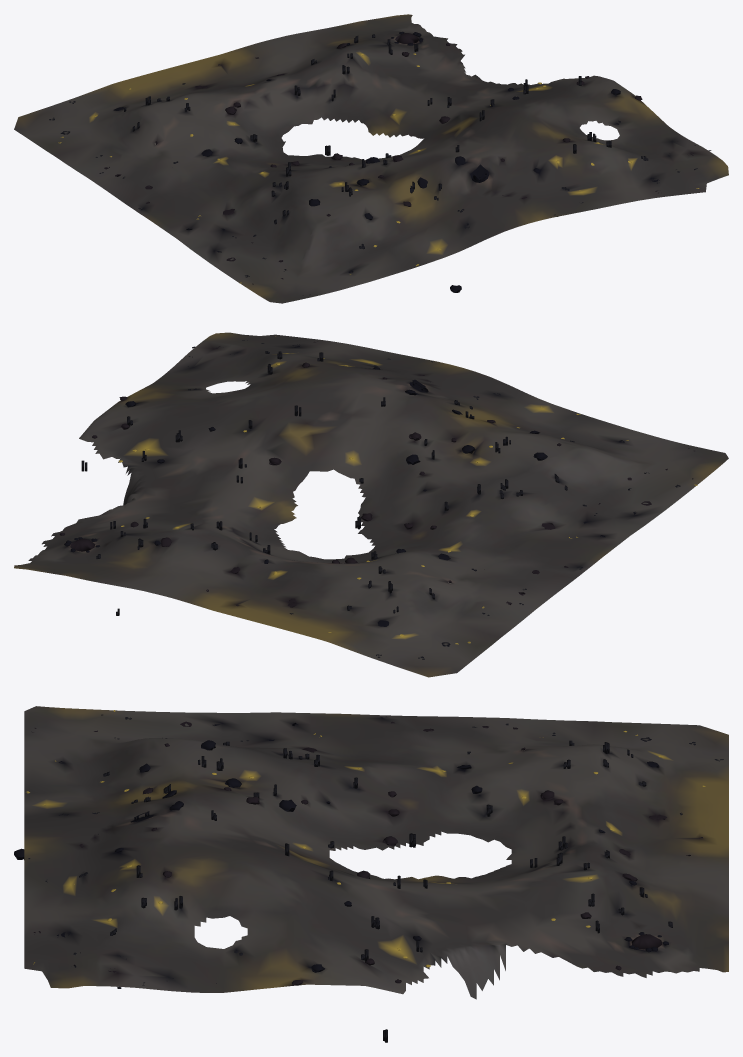
File: ash_isl_obsidian_arch_lod1.glb
3 views of the same model, one above another, from view 1: azimuth 30°, elevation 25°; view 2: azimuth 150°, elevation 25°; view 3: azimuth 270°, elevation 25° (orthographic). The views are drawn at different scales.
Parts seen in each view (by area): view 1: ash_isl_obsidian_arch_lod1; view 2: ash_isl_obsidian_arch_lod1; view 3: ash_isl_obsidian_arch_lod1.
Part boxes in pixels (left/top/right/bottom): ash_isl_obsidian_arch_lod1: left=14, top=14, right=728, bottom=303; ash_isl_obsidian_arch_lod1: left=14, top=332, right=728, bottom=677; ash_isl_obsidian_arch_lod1: left=14, top=706, right=728, bottom=1042.
Bounding box in the file's own units: 242 × 36.81 × 244.
